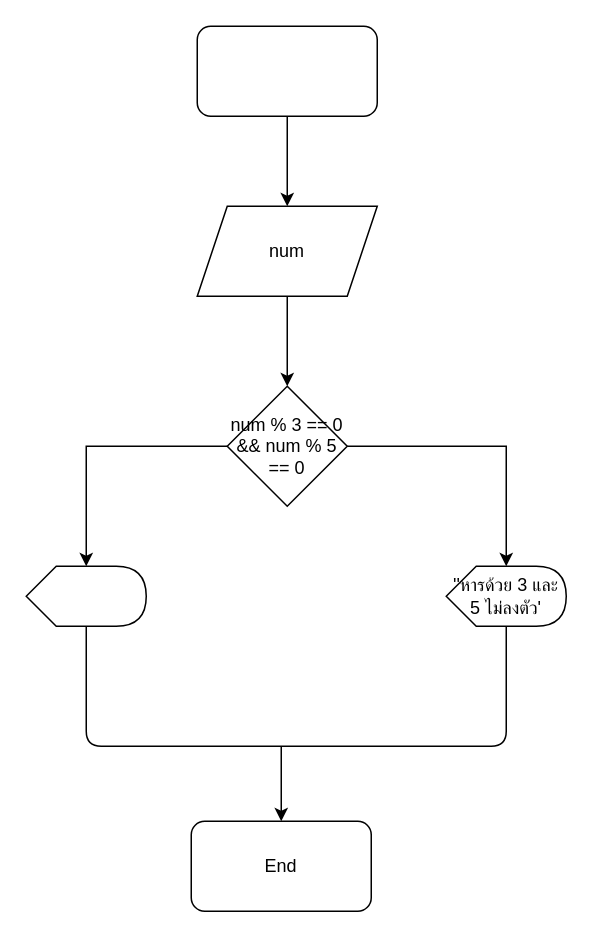
Some shapes in this 593 by 938 pixel diagram are drawn without their labels. The shapes that lost their labels are listed below. From the top down, each one's centre as x and y in pixels, then its label:
At point (286, 70): "start".
At point (85, 595): "'หารด้วย 3 และ 5 ลงตัว'".
